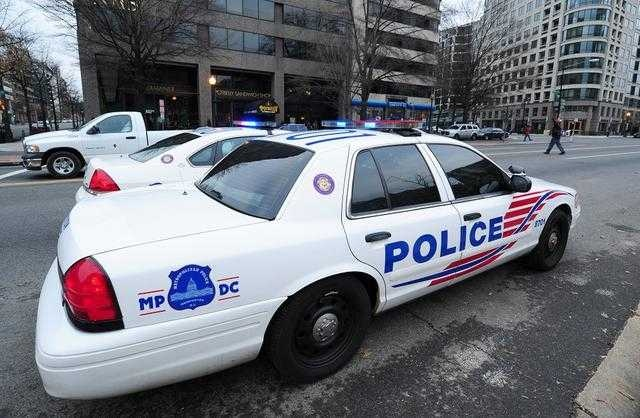Police Car: (34, 112, 587, 395), (71, 122, 298, 201)
